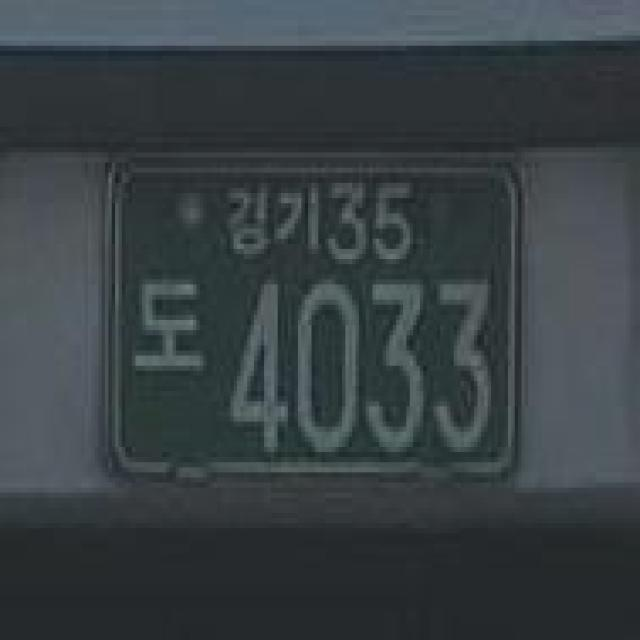illegal_plate: (86, 131, 541, 524)
